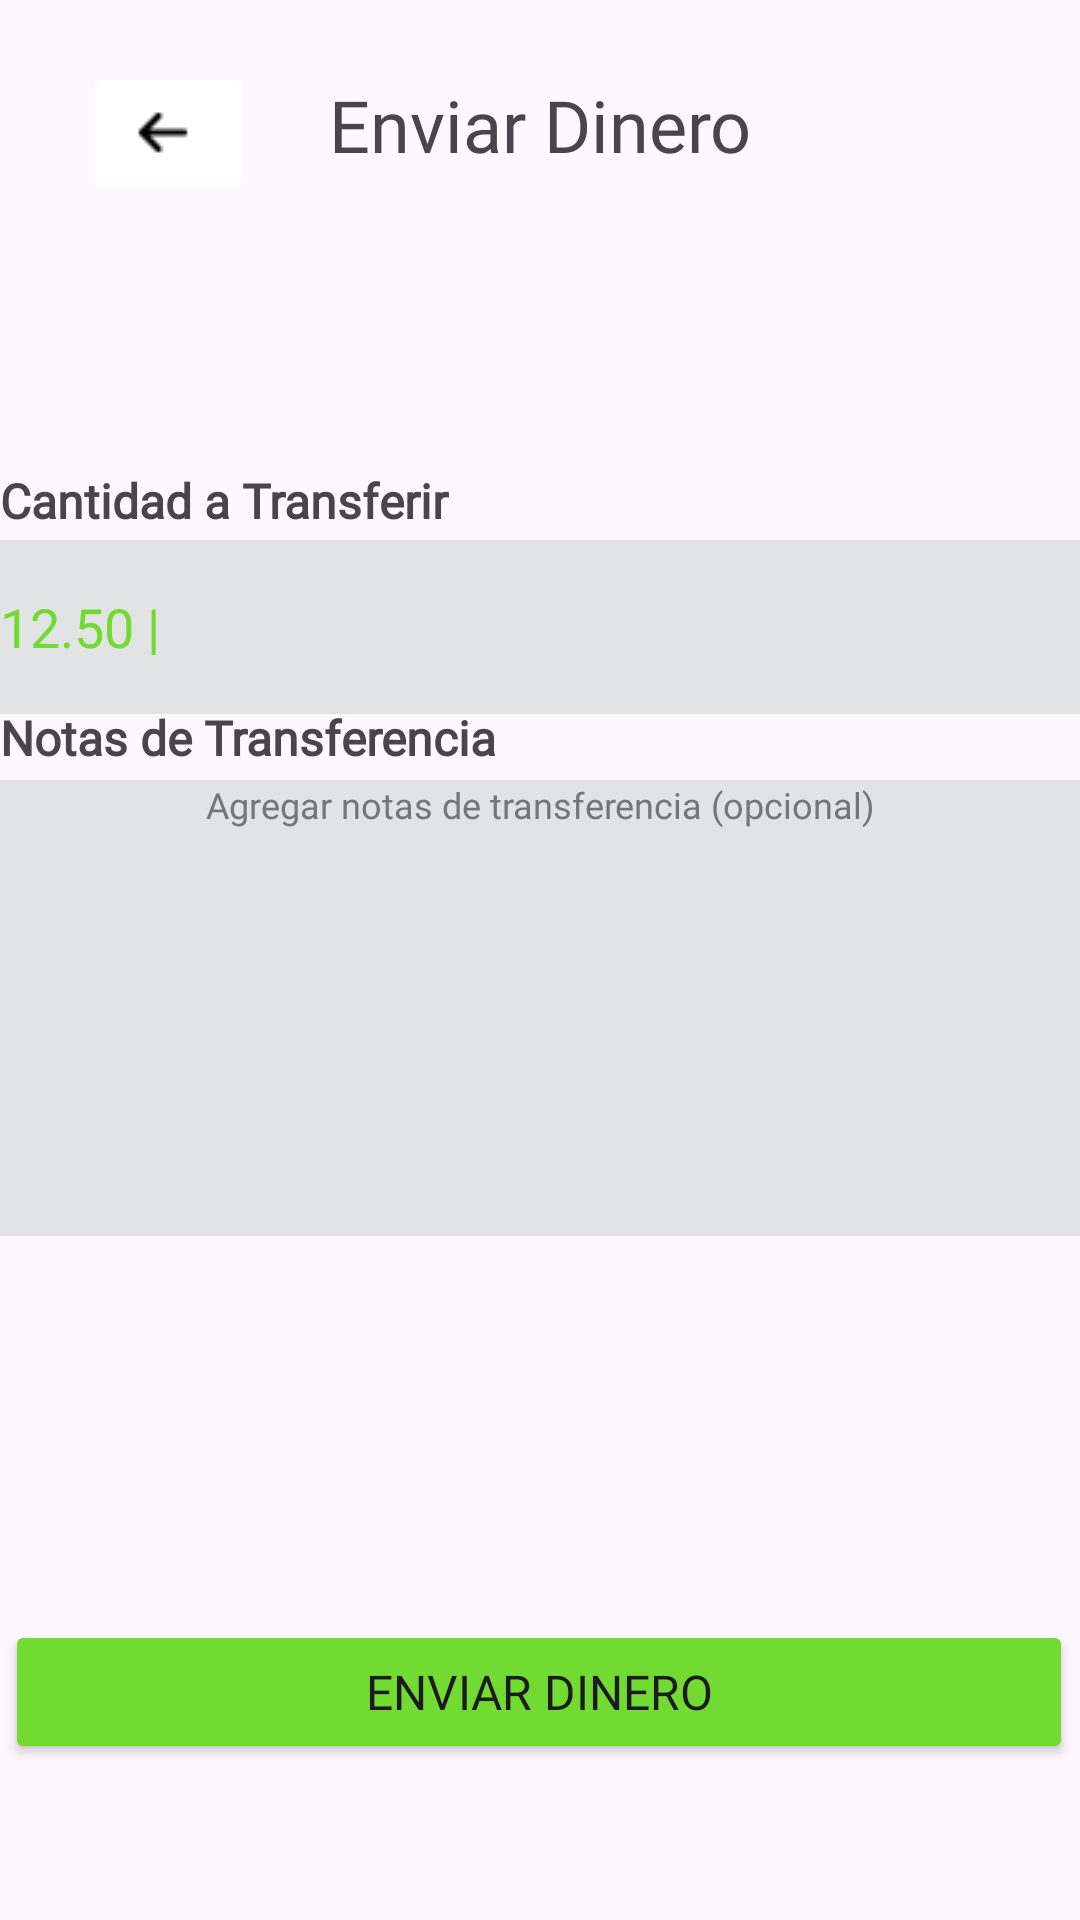

Screen size 1080px x 1920px. Icon name, then its center in pixels as point (x, y):
flecha: point (163, 132)
